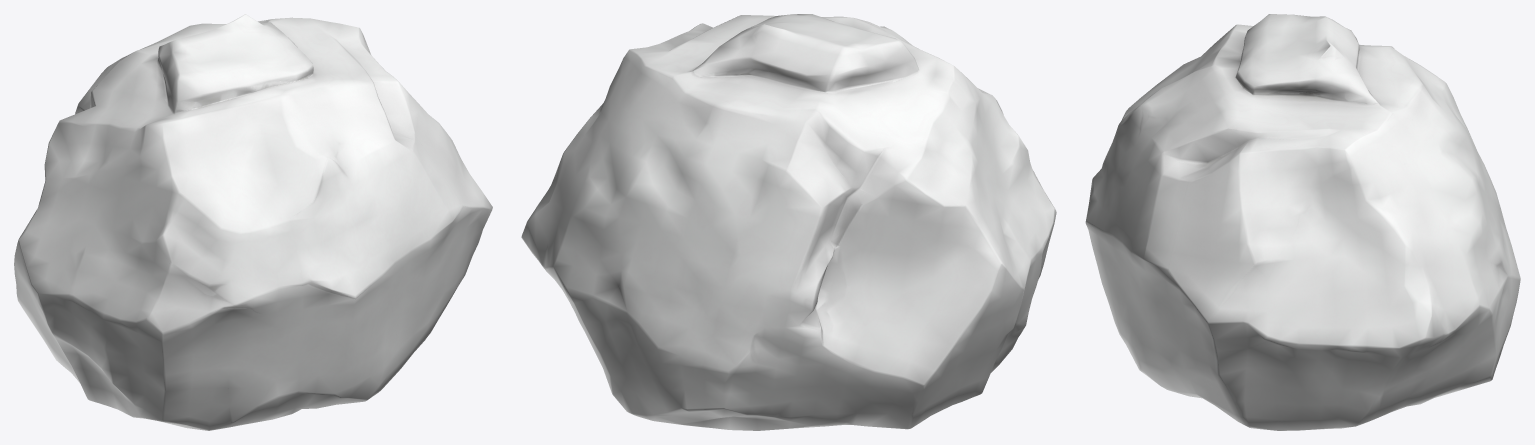
File: rock.glb
The picture shows the model from 3 angles, left to right: view 1: azimuth 30°, elevation 25°; view 2: azimuth 150°, elevation 25°; view 3: azimuth 270°, elevation 25°; orthographic projection. The views are drawn at different scales.
Bounding box in the file's own units: 2 × 1.5 × 1.84.
Materials: 1 (1 with a texture image).
